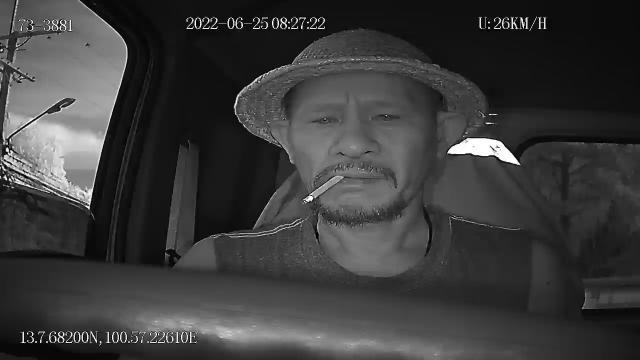SafeDriving: (364, 102, 408, 128), (304, 106, 346, 129)
Smoking: (302, 171, 346, 203)
